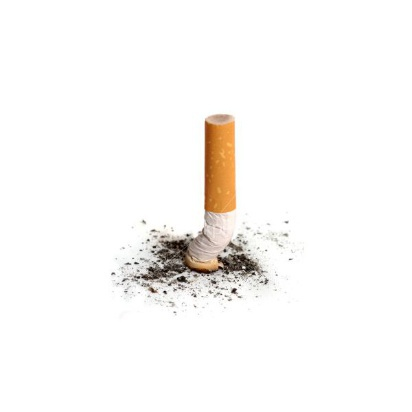cigarette: (171, 108, 248, 293)
